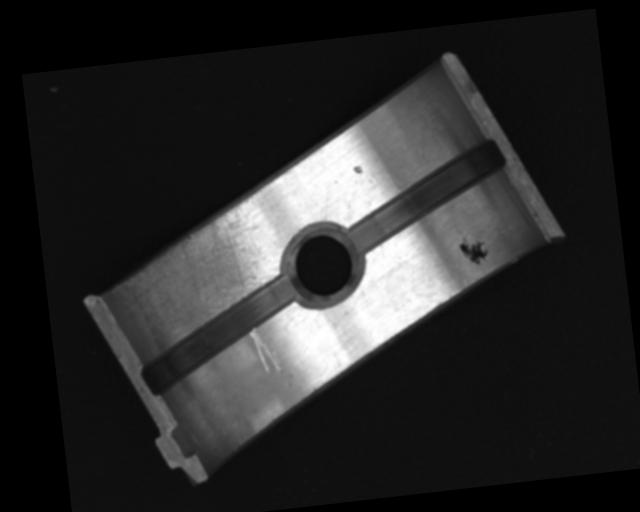blot: (456, 234, 490, 269)
bruise: (352, 165, 363, 175)
gap: (127, 273, 306, 400), (339, 136, 517, 254)
hole: (281, 223, 360, 304)
nick: (248, 325, 283, 378)
scratch: (102, 198, 283, 359)
